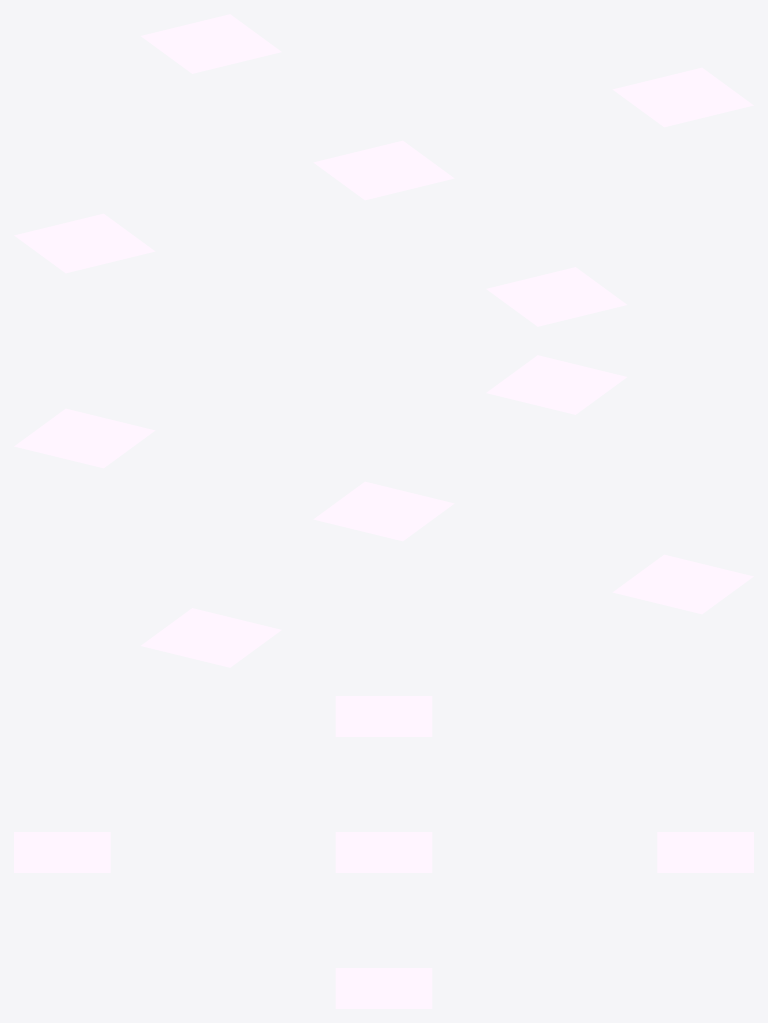
Rendered from basePlanes.gltf.
3 views of the same model, one above another, from view 1: azimuth 30°, elevation 25°; view 2: azimuth 150°, elevation 25°; view 3: azimuth 270°, elevation 25° (orthographic). The views are drawn at different scales.
Parts seen in each view (by area): view 1: baseUpPlane, baseDownPlane, baseLeftPlane, baseRightPlane, baseCenterPlane; view 2: baseUpPlane, baseDownPlane, baseLeftPlane, baseRightPlane, baseCenterPlane; view 3: baseCenterPlane, baseLeftPlane, baseRightPlane, baseUpPlane, baseDownPlane.
Part boxes in pixels (x1,y1,x2,y2): baseUpPlane: [141, 14, 281, 73]; baseDownPlane: [486, 267, 626, 326]; baseLeftPlane: [14, 213, 155, 273]; baseRightPlane: [612, 67, 753, 127]; baseCenterPlane: [313, 140, 454, 200]; baseUpPlane: [141, 608, 281, 667]; baseDownPlane: [486, 355, 626, 414]; baseLeftPlane: [612, 554, 753, 614]; baseRightPlane: [14, 408, 155, 468]; baseCenterPlane: [313, 481, 454, 541]; baseCenterPlane: [335, 832, 432, 872]; baseLeftPlane: [335, 696, 432, 736]; baseRightPlane: [335, 968, 432, 1008]; baseUpPlane: [657, 832, 753, 872]; baseDownPlane: [14, 832, 110, 872].
Bounding box in the file's own units: 23 × 0 × 23.
